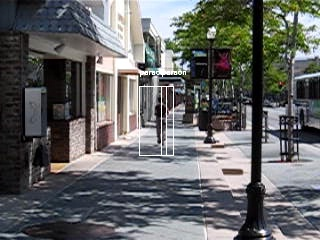person: (153, 97, 170, 148), (152, 97, 169, 148), (154, 97, 171, 148), (153, 96, 170, 147), (153, 98, 170, 149)
target_negative: (40, 37, 269, 136), (49, 2, 224, 96), (12, 44, 113, 173), (214, 18, 304, 102), (101, 123, 276, 156), (150, 186, 295, 198)
